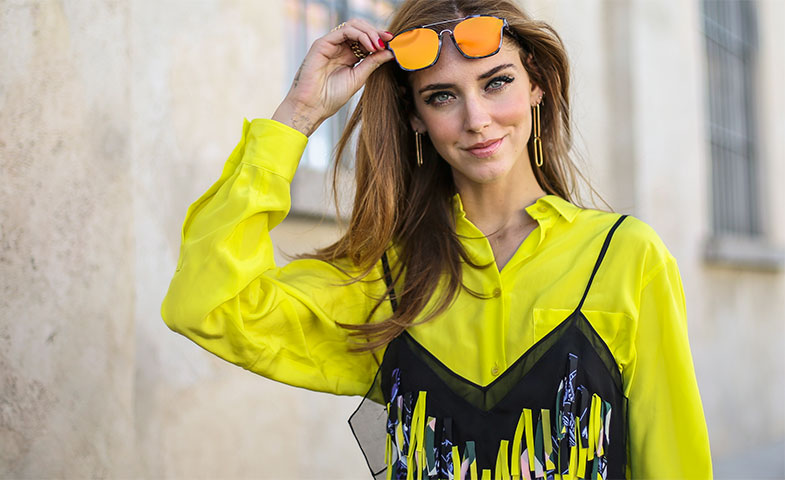person: (339, 8, 601, 248)
